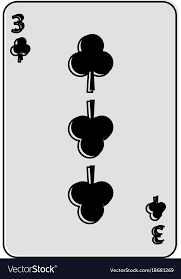three of clubs: (5, 3, 175, 257)
